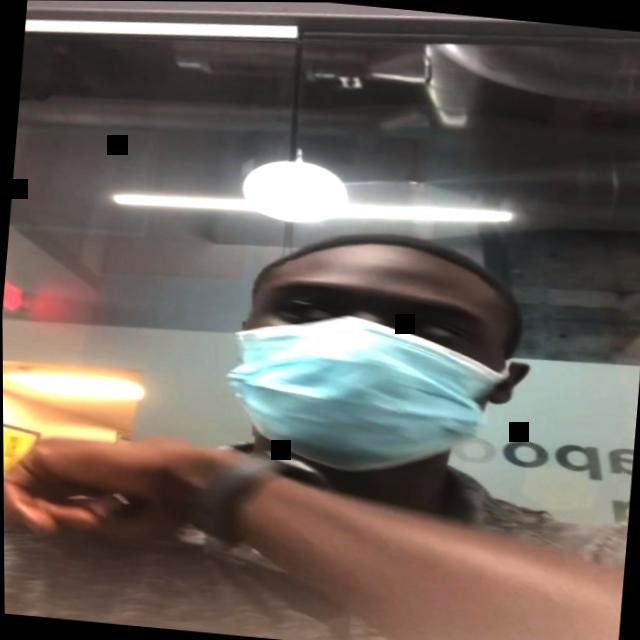Mask: (223, 243, 522, 481)
